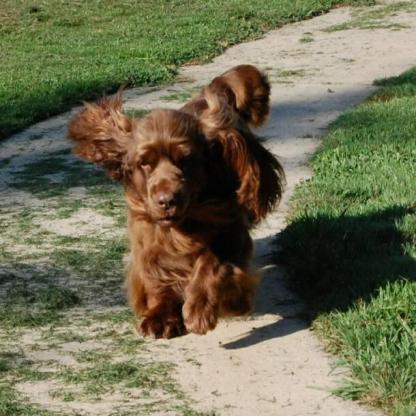Sussex_spaniel: (65, 61, 286, 338)
